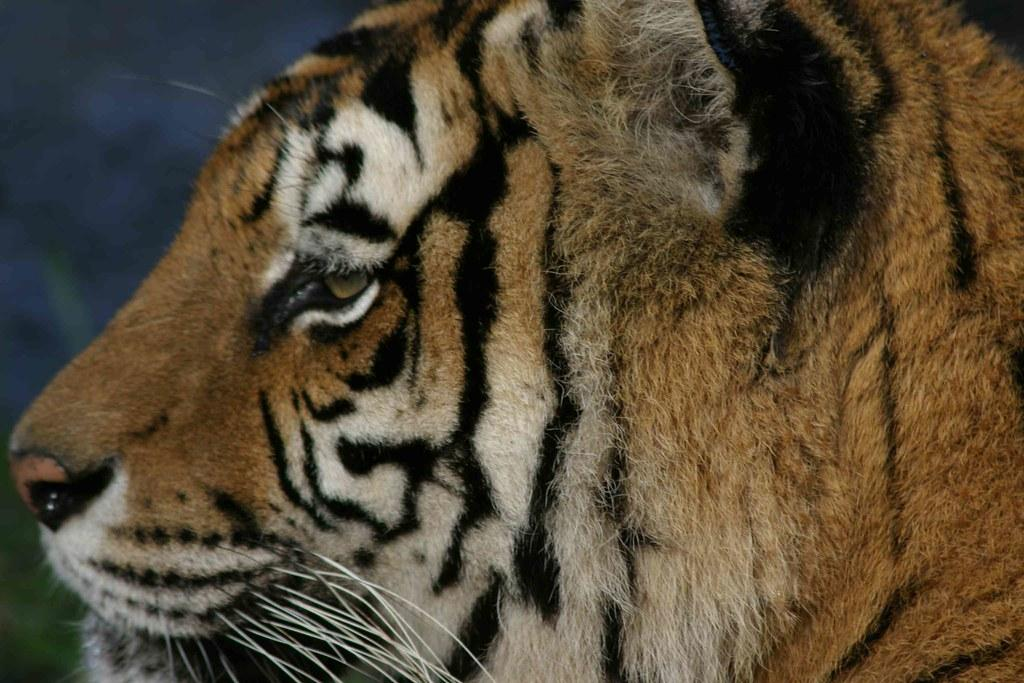tiger: (7, 1, 1022, 682)
